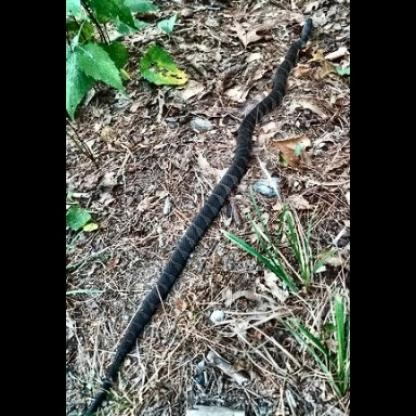Snake: (74, 23, 342, 392)
